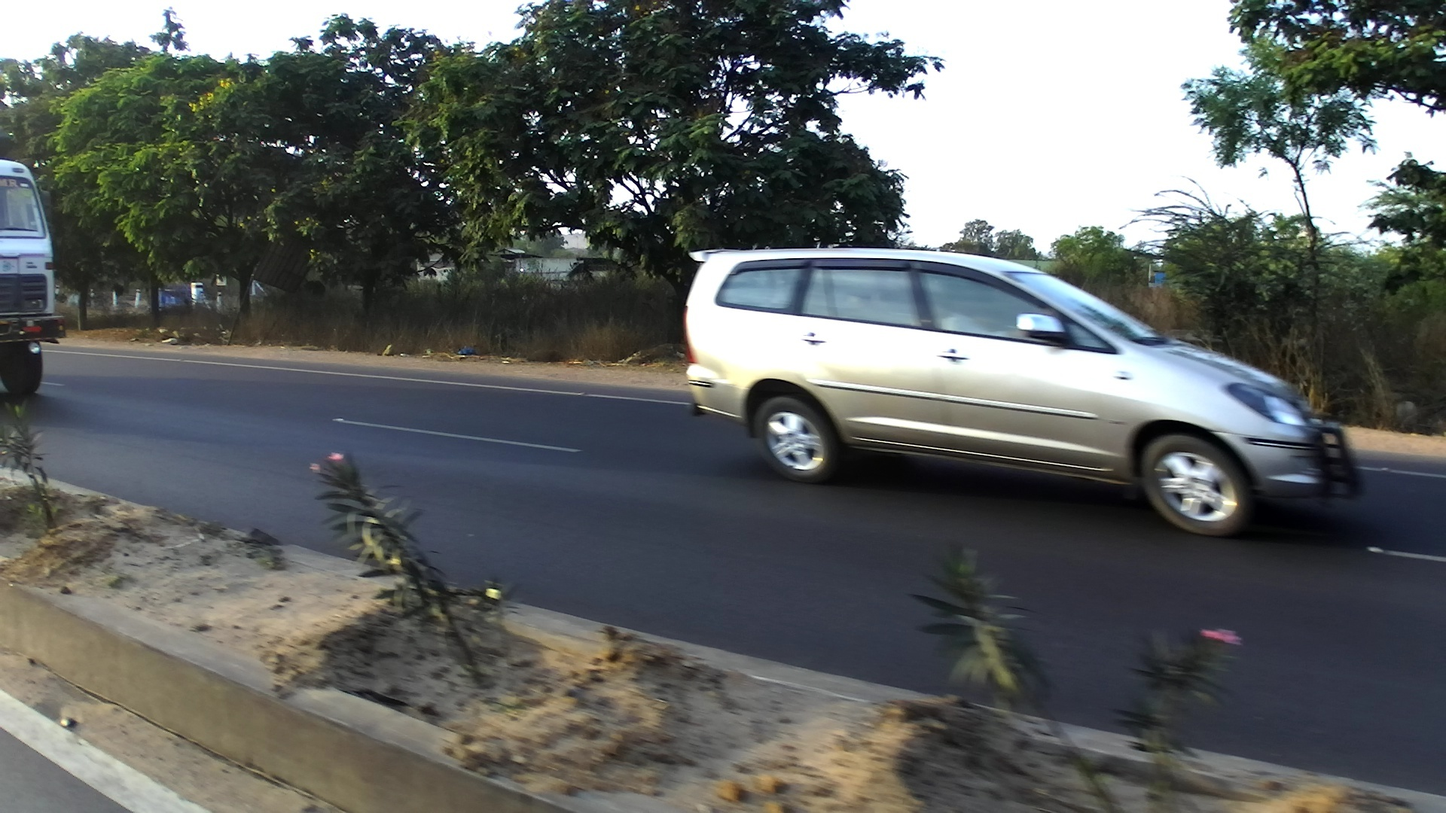car: (683, 242, 1365, 537)
truck: (2, 130, 65, 395)
